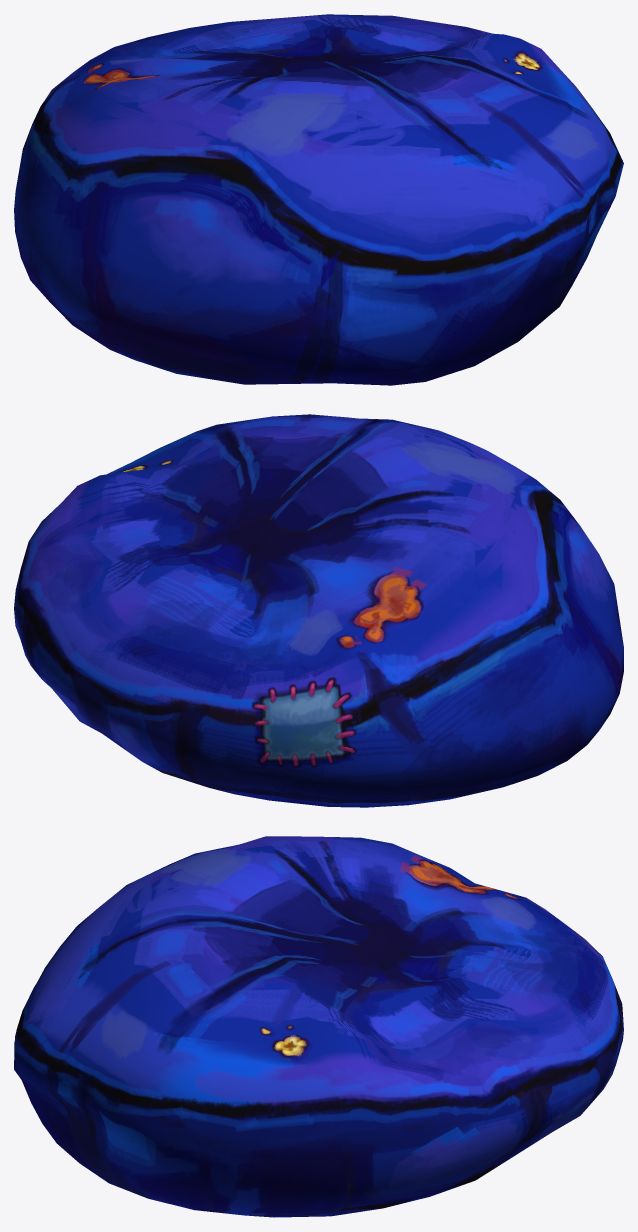
File: bean bag.glb
3 renders of one model, top to bottom at view 1: azimuth 30°, elevation 25°; view 2: azimuth 150°, elevation 25°; view 3: azimuth 270°, elevation 25°, orthographic. The views are drawn at different scales.
Parts seen in each view (by area): view 1: beanbag_remesh; view 2: beanbag_remesh; view 3: beanbag_remesh.
Part boxes in pixels (bbox=[...]): beanbag_remesh: bbox=[14, 14, 623, 385]; beanbag_remesh: bbox=[14, 414, 623, 807]; beanbag_remesh: bbox=[14, 836, 623, 1217].
Bounding box in the file's own units: 0.0165 × 0.00784 × 0.0168.
Materials: 1 (1 with a texture image).
